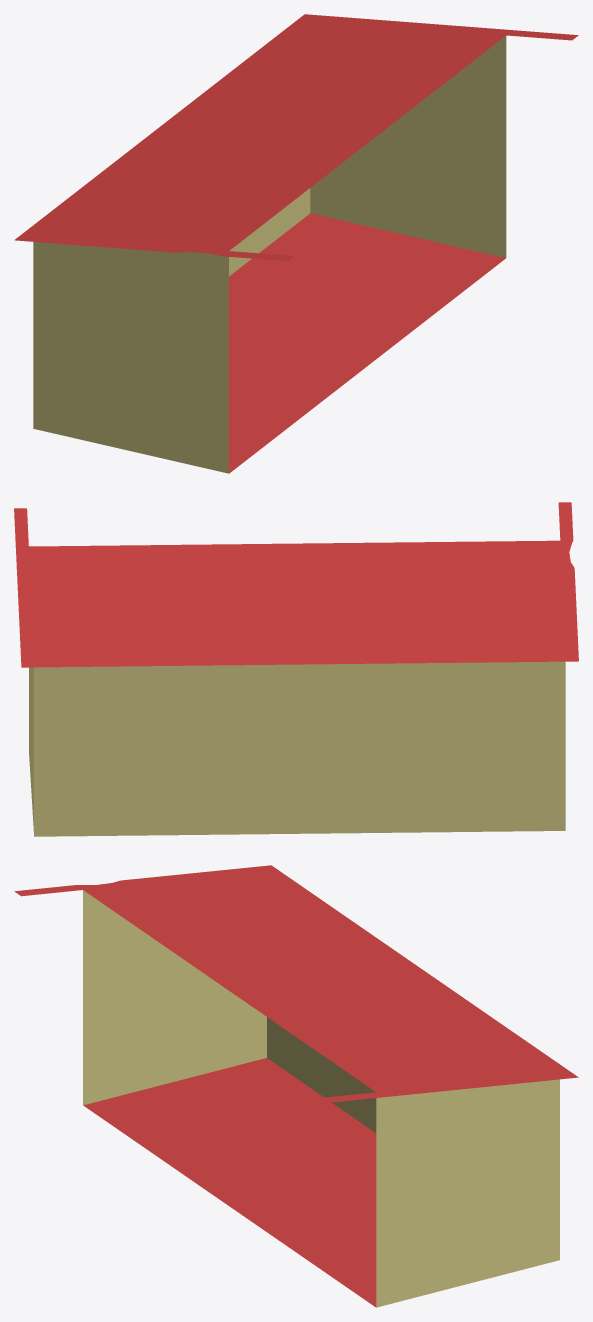
The picture shows the model from 3 angles, top to bottom: view 1: azimuth 30°, elevation 25°; view 2: azimuth 150°, elevation 25°; view 3: azimuth 270°, elevation 25°; orthographic projection. The views are drawn at different scales.
Bounding box in the file's own units: 23.88 × 20.44 × 8.99.
